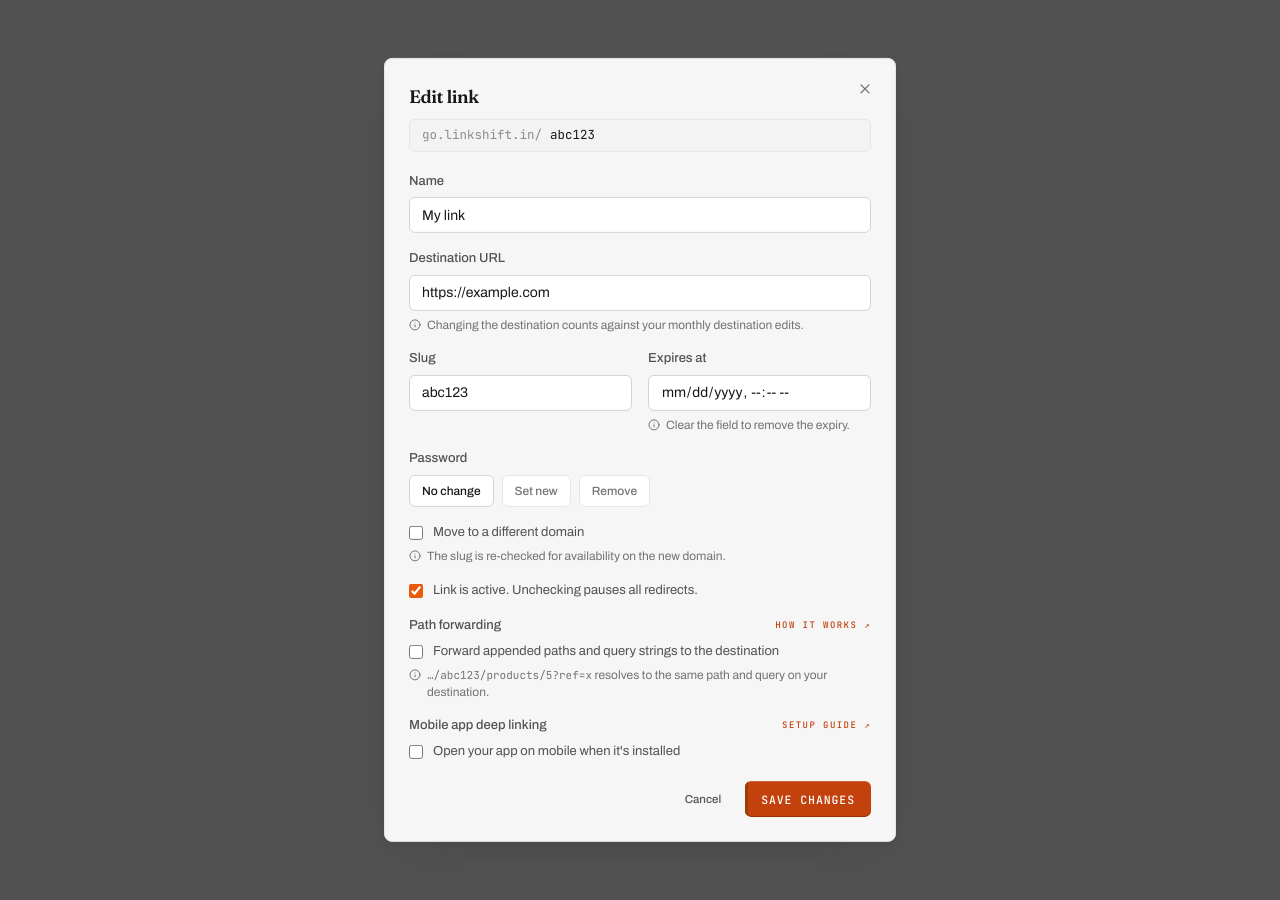
Scenario: EditLinkDialog short-link preview › updates the preview prefix immediately when switching to a custom domain
Click the checkbox labelled "Move to a different domain". click: (416, 532)
box: [409,525,423,539]
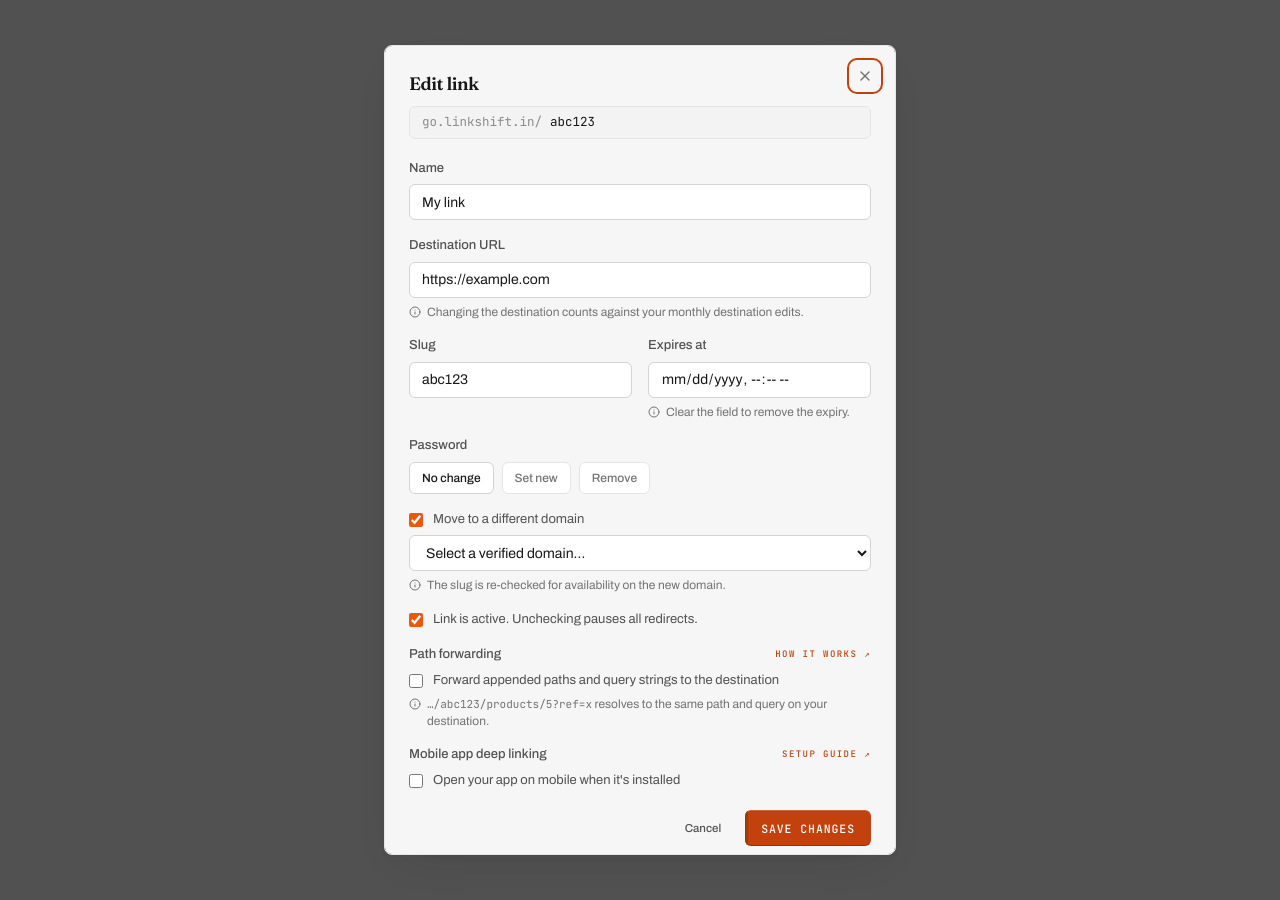
Select "nadeem.io" in the dropdown. click: (640, 553)
box: [409,535,871,571]
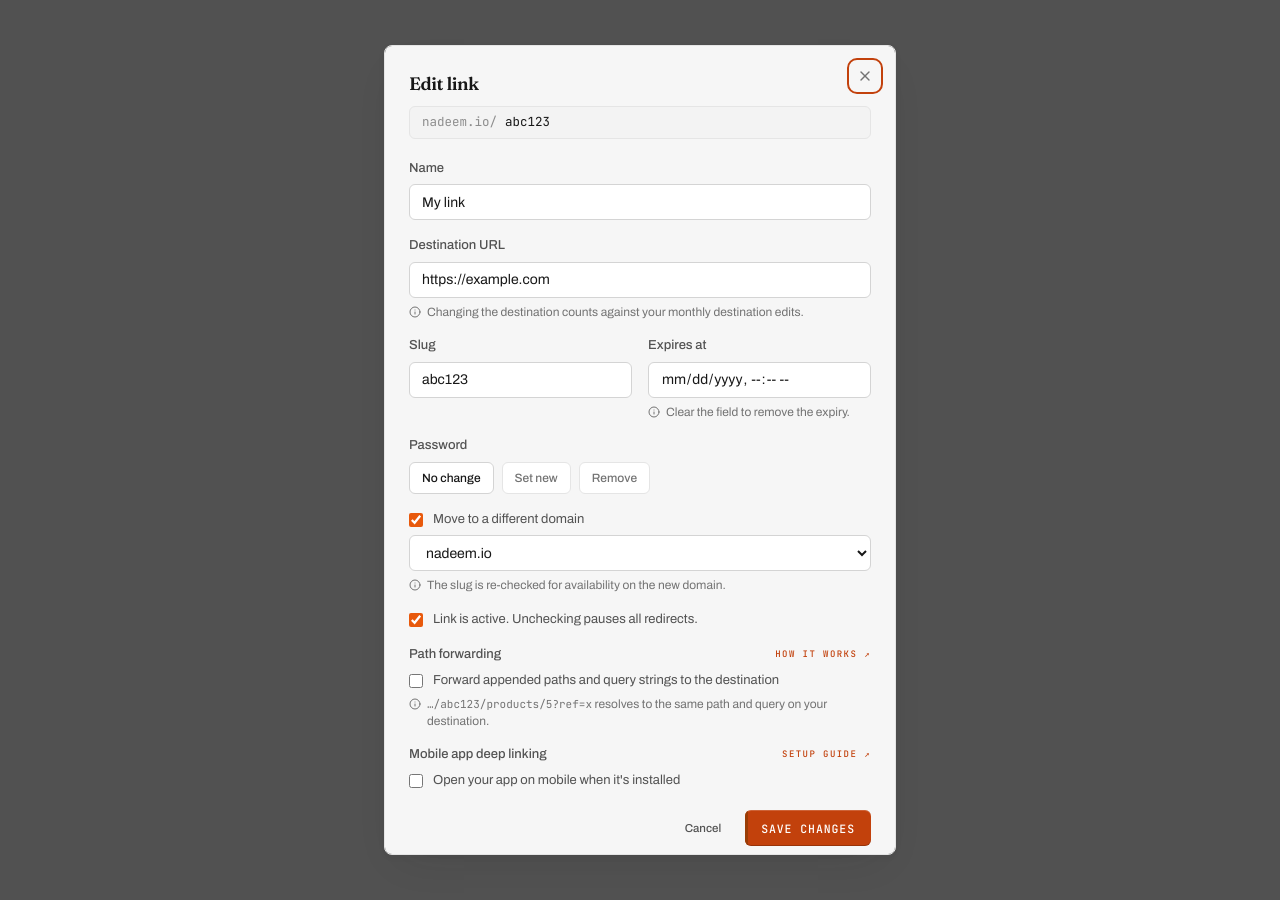
Result: the text "nadeem.io/" is shown at [422,113,497,132]
